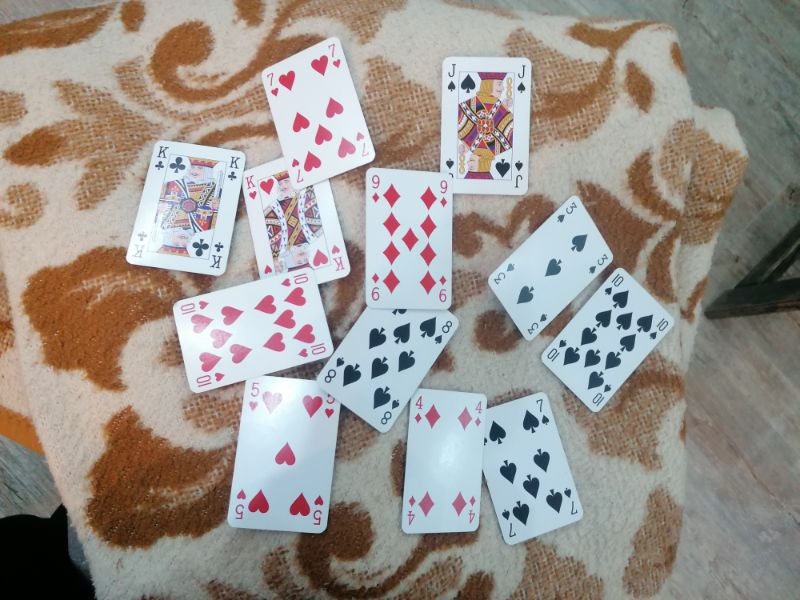3s: (492, 259, 519, 287), (525, 311, 550, 338), (554, 200, 580, 224), (587, 252, 611, 276)
4d: (403, 492, 419, 528), (411, 393, 425, 424), (472, 398, 484, 429), (466, 492, 477, 523)
5h: (310, 491, 326, 530), (233, 485, 249, 522), (248, 379, 262, 411)
7h: (353, 130, 374, 161), (289, 155, 305, 184), (326, 40, 341, 68), (267, 68, 278, 99)
7s: (498, 506, 519, 540), (562, 485, 581, 516), (533, 396, 550, 427)
8s: (322, 355, 348, 384), (378, 397, 403, 427), (433, 318, 456, 347)
9d: (435, 176, 451, 211), (371, 170, 383, 205), (369, 271, 382, 303), (437, 274, 449, 305)
Js: (445, 61, 459, 92), (513, 158, 525, 191), (516, 63, 528, 95)
Kc: (130, 229, 151, 261), (209, 240, 228, 273), (153, 143, 173, 172), (225, 153, 243, 182)
Kh: (329, 242, 347, 274), (245, 171, 258, 202)
Th: (194, 369, 227, 391), (278, 270, 313, 290), (178, 297, 211, 318), (297, 339, 329, 360)
Ts: (589, 382, 614, 409), (546, 336, 570, 363), (603, 272, 627, 298), (647, 316, 671, 342)
